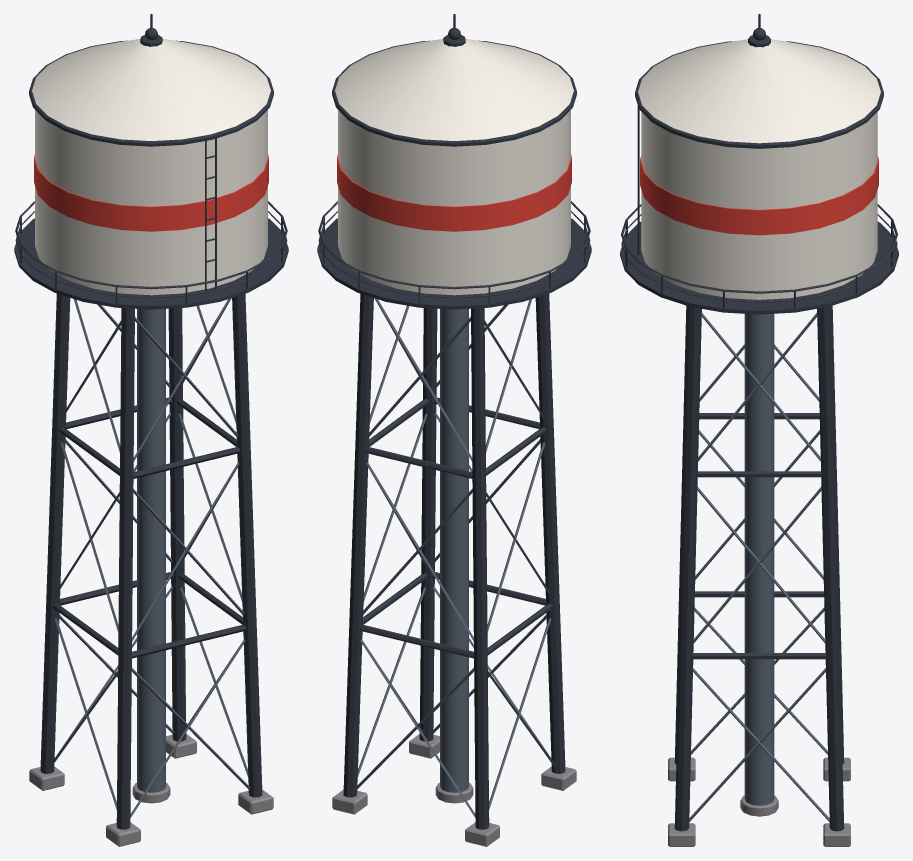
The model's file is water_tower.glb.
The picture shows the model from 3 angles, left to right: view 1: azimuth 30°, elevation 25°; view 2: azimuth 150°, elevation 25°; view 3: azimuth 270°, elevation 25°; orthographic projection.
Parts seen in each view (by area): view 1: water_tower; view 2: water_tower; view 3: water_tower.
Boxes of the visible parts, <box> form: water_tower: <box>14,14,288,846</box>; water_tower: <box>317,14,591,846</box>; water_tower: <box>620,14,898,846</box>.
Size of the model in its own units: 12.72 by 40 by 12.72.
Materials: 2 (2 with a texture image).
